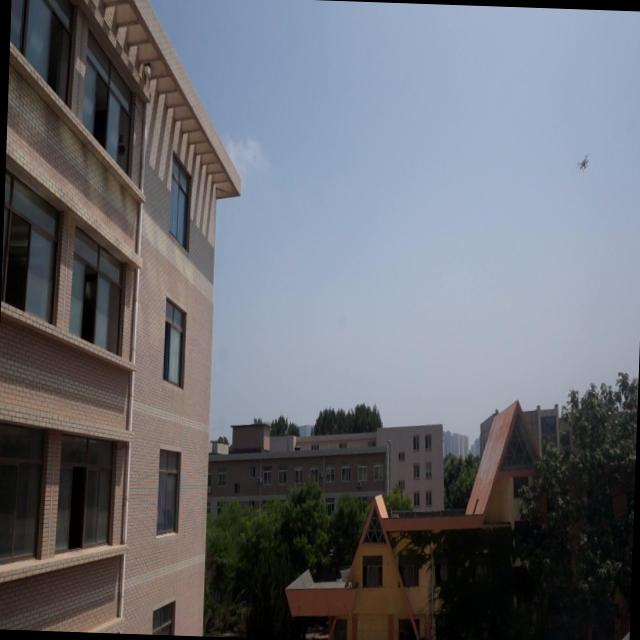drone: (574, 151, 590, 171)
